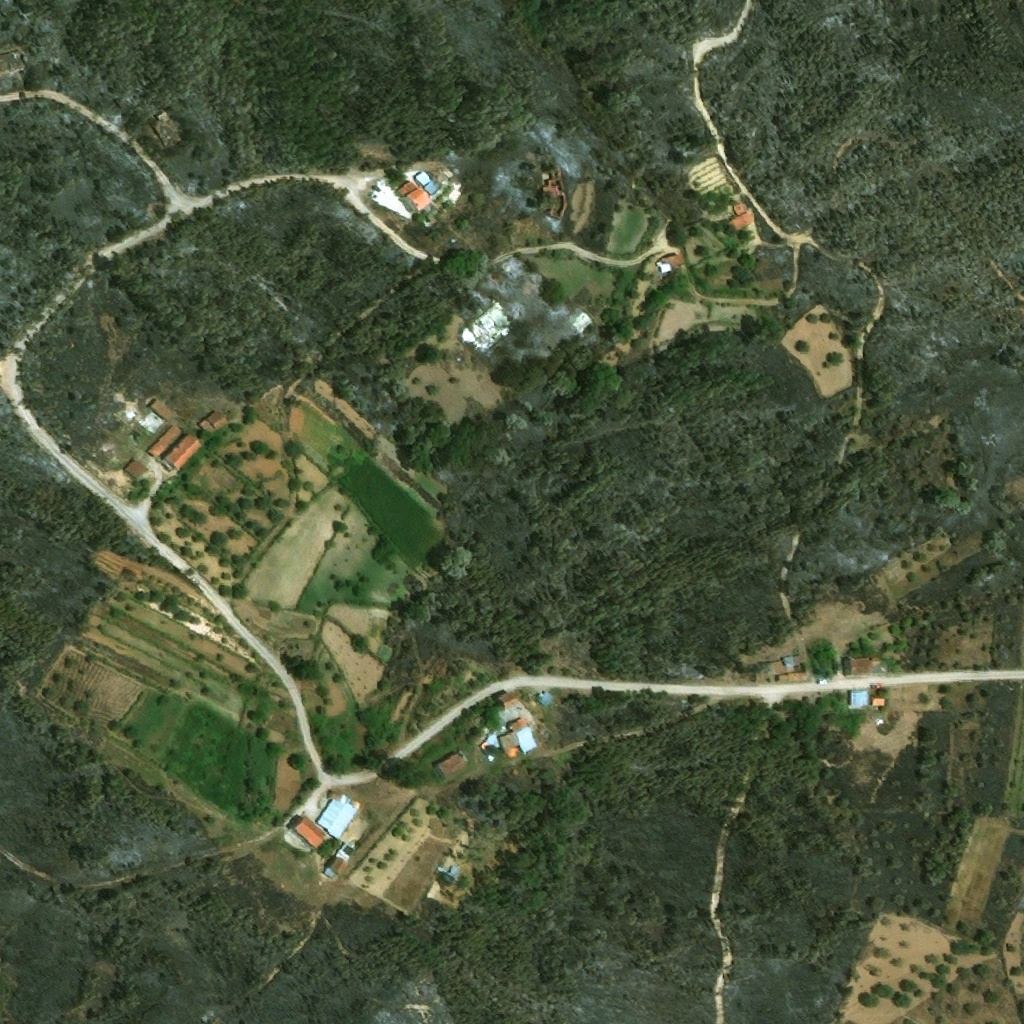0 no-damage: (480, 715, 537, 755), (316, 791, 361, 839), (750, 652, 810, 681), (288, 814, 328, 852), (145, 422, 183, 458), (395, 179, 434, 214), (323, 841, 357, 881), (164, 434, 202, 468), (432, 751, 467, 781), (724, 203, 753, 235), (846, 656, 887, 676), (199, 409, 230, 435), (415, 169, 443, 196), (654, 253, 685, 276), (149, 398, 176, 421), (123, 458, 148, 479), (443, 864, 465, 886), (497, 689, 520, 710), (846, 690, 869, 709), (872, 698, 887, 706)
3 destroyed: (468, 300, 514, 341), (542, 168, 567, 216), (154, 110, 185, 148), (0, 42, 31, 74)
